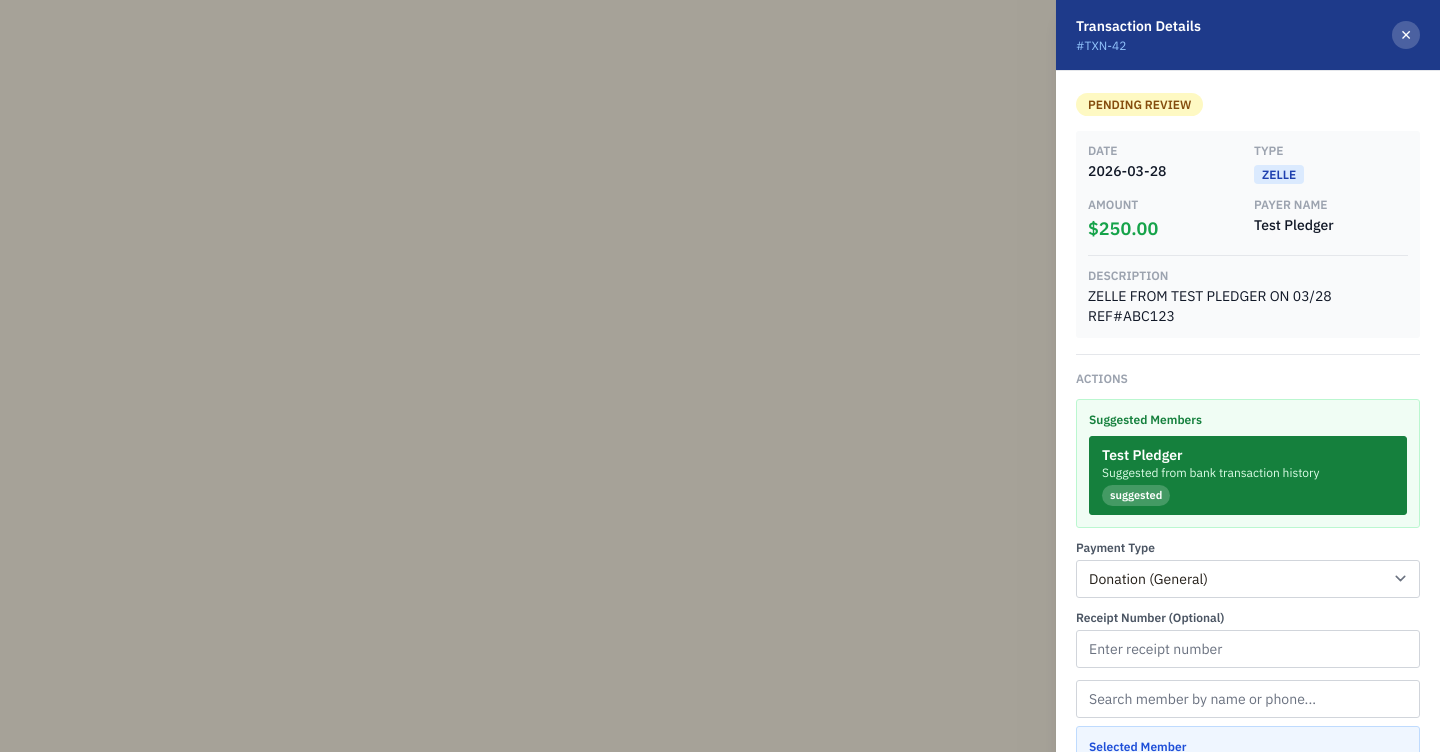
BankTransactionDetail — pledge reconciliation › warns when the payment was recorded but the pledge could not be
Select "Pledge Drive (መብጸዓ)" in the dropdown labelled "Payment Type" at (1248, 578), box left=1076, top=560, right=1420, bottom=598
(page scrolled)
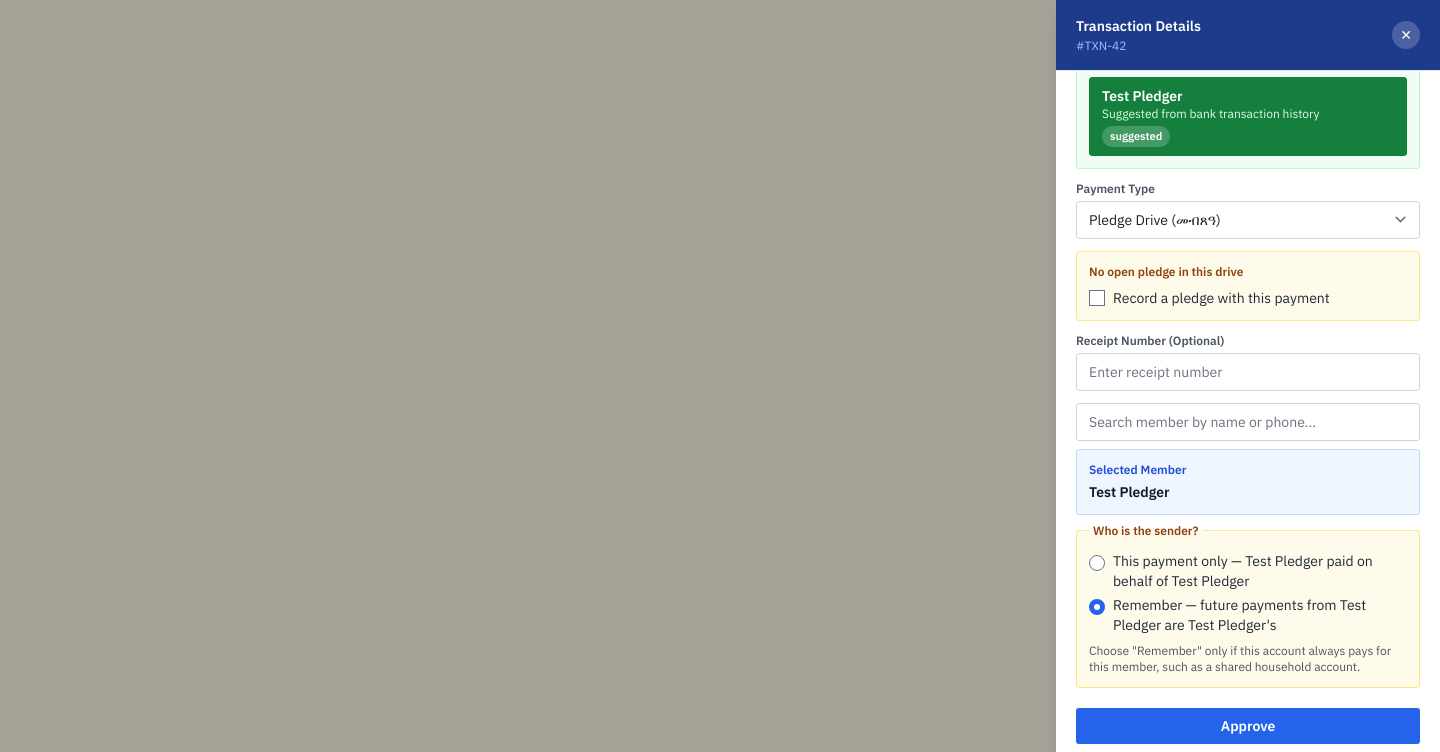
expect the text "No open pledge in this drive" is shown: met, box left=1089, top=264, right=1243, bottom=278
Click the button "Approve" at (1248, 726), box left=1076, top=708, right=1420, bottom=744
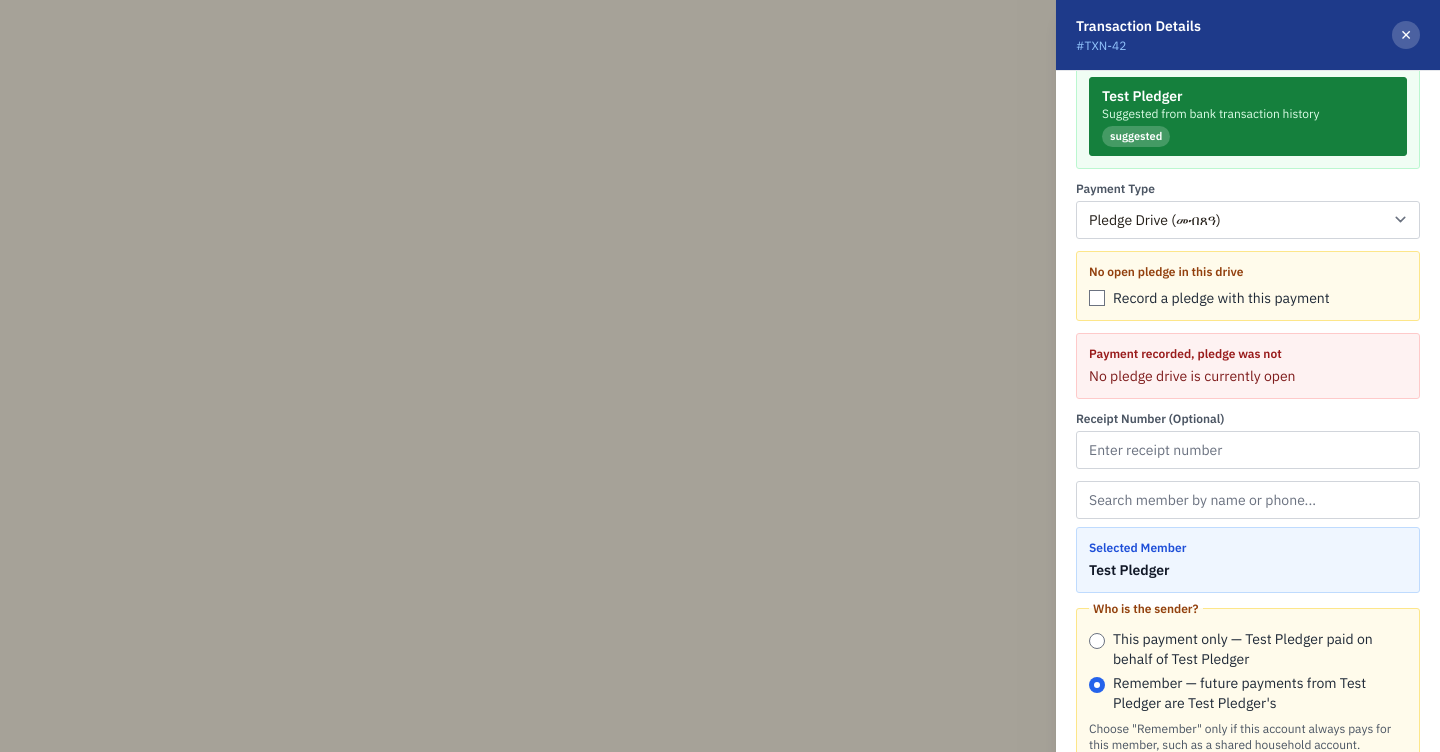
expect the text "No pledge drive is currently open" is shown: met, box left=1089, top=366, right=1296, bottom=384
